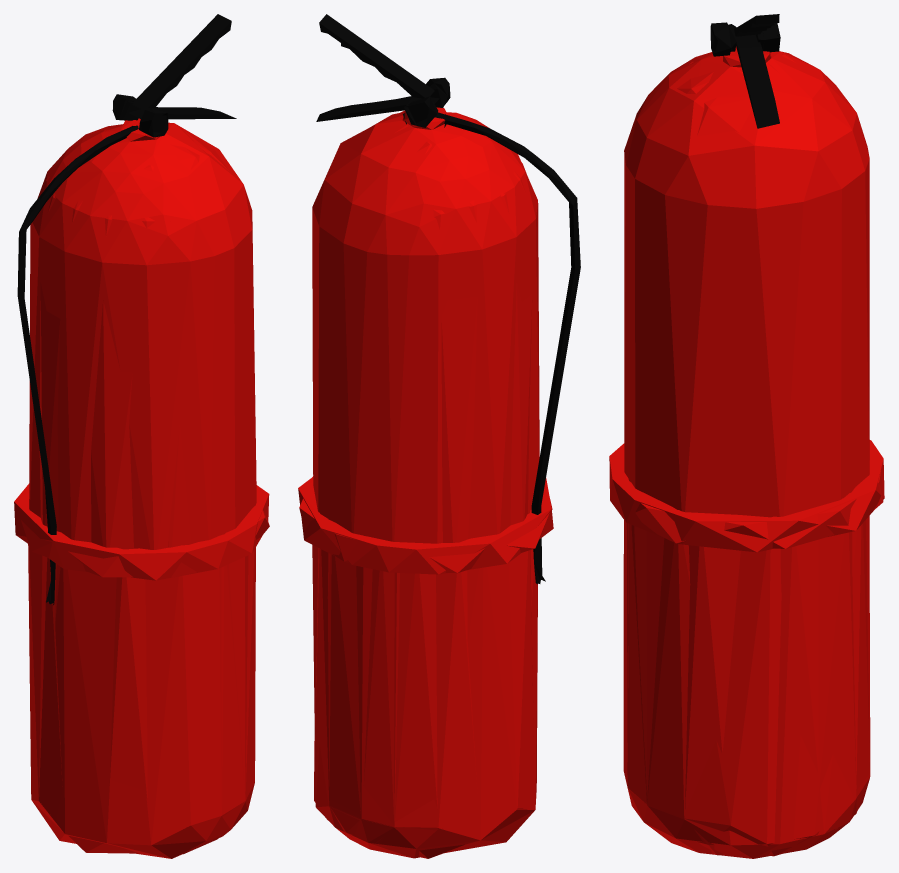
File: Fire_Extinguisher.fbx
3 renders of one model, left to right at view 1: azimuth 30°, elevation 25°; view 2: azimuth 150°, elevation 25°; view 3: azimuth 270°, elevation 25°, orthographic. The views are drawn at different scales.
Parts seen in each view (by area): view 1: Cube.175; view 2: Cube.175; view 3: Cube.175.
Part boxes in pixels (x1,y1,x2,y2): Cube.175: [14, 14, 269, 858]; Cube.175: [298, 14, 580, 858]; Cube.175: [609, 14, 884, 858].
Bounding box in the file's own units: 257 × 770 × 223.
